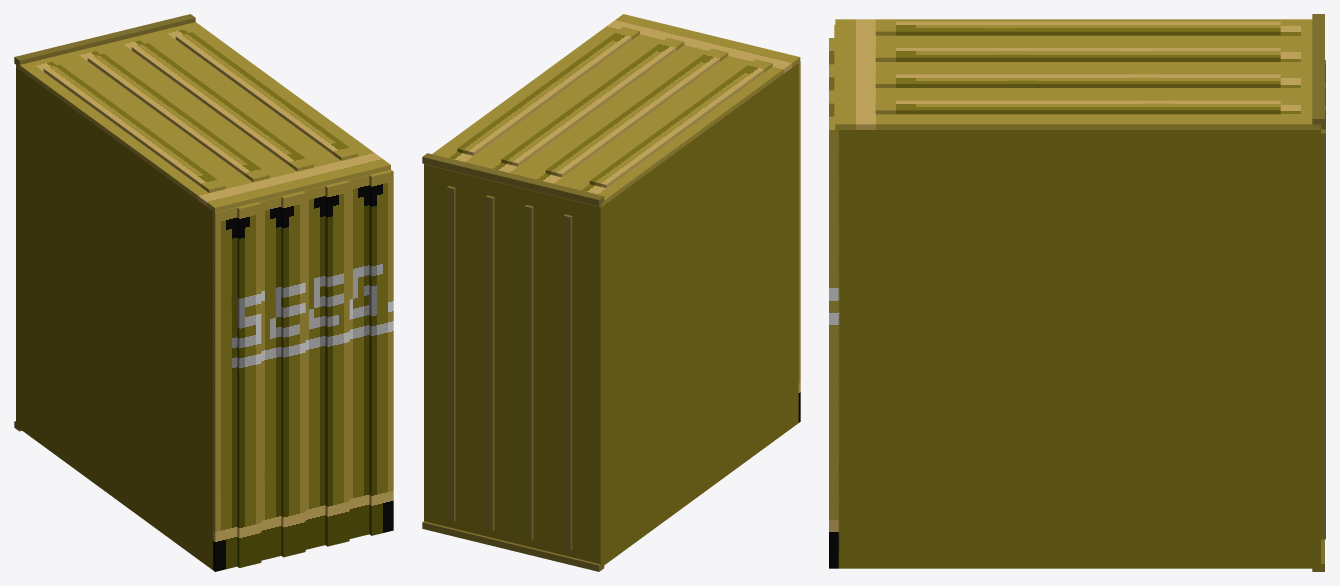
File: CMU3DFreightAU14ContainerSeegsonMiddle.glb
3 views of the same model, side by side, from view 1: azimuth 30°, elevation 25°; view 2: azimuth 150°, elevation 25°; view 3: azimuth 270°, elevation 25° (orthographic). The views are drawn at different scales.
Visible parts, largest first — view 1: closed cargo shell, source-painted corrugated roof, painted corrugation 6, painted corrugation 4, painted corrugation 8, painted corrugation 2, painted corrugation 1, painted corrugation 3, painted corrugation 5, painted corrugation 7, source-painted roof ridge 4, source-painted roof ridge 1 (+3 smaller); view 2: closed cargo shell, source-painted corrugated roof, rear wall corrugation (×4), rear horizontal frame (×2), source-painted roof ridge 2, source-painted roof ridge 1, source-painted roof ridge 3, source-painted roof ridge 4, painted corrugation 1; view 3: closed cargo shell, source-painted corrugated roof, source-painted roof ridge 1, source-painted roof ridge 4, source-painted roof ridge 2, source-painted roof ridge 3, painted corrugation 8, rear wall corrugation, rear horizontal frame.
Part boxes in pixels (<box>): closed cargo shell: <box>16,67,213,569</box>; source-painted corrugated roof: <box>16,22,390,212</box>; painted corrugation 6: <box>325,180,349,546</box>; painted corrugation 4: <box>281,191,305,557</box>; painted corrugation 8: <box>369,169,393,535</box>; painted corrugation 2: <box>237,202,261,567</box>; painted corrugation 1: <box>213,207,237,571</box>; painted corrugation 3: <box>259,196,281,560</box>; painted corrugation 5: <box>303,185,325,549</box>; painted corrugation 7: <box>347,175,369,538</box>; source-painted roof ridge 4: <box>175,32,357,160</box>; source-painted roof ridge 1: <box>43,64,225,192</box>; closed cargo shell: <box>424,63,798,566</box>; source-painted corrugated roof: <box>424,14,800,207</box>; rear wall corrugation (×4): <box>446,186,572,550</box>; rear horizontal frame (×2): <box>422,153,604,571</box>; source-painted roof ridge 2: <box>545,48,728,177</box>; source-painted roof ridge 1: <box>589,59,772,188</box>; source-painted roof ridge 3: <box>501,37,684,166</box>; source-painted roof ridge 4: <box>457,27,639,155</box>; painted corrugation 1: <box>798,61,800,422</box>; closed cargo shell: <box>838,130,1320,568</box>; source-painted corrugated roof: <box>835,19,1320,129</box>; source-painted roof ridge 1: <box>875,21,1280,35</box>; source-painted roof ridge 4: <box>875,100,1280,114</box>; source-painted roof ridge 2: <box>875,48,1280,61</box>; source-painted roof ridge 3: <box>875,74,1280,87</box>; painted corrugation 8: <box>829,116,839,568</box>; rear wall corrugation: <box>1321,129,1325,539</box>; rear horizontal frame: <box>1312,14,1324,126</box>.
Size of the model in its own units: 1 by 2.01 by 2.
12 materials, 10 textured.
